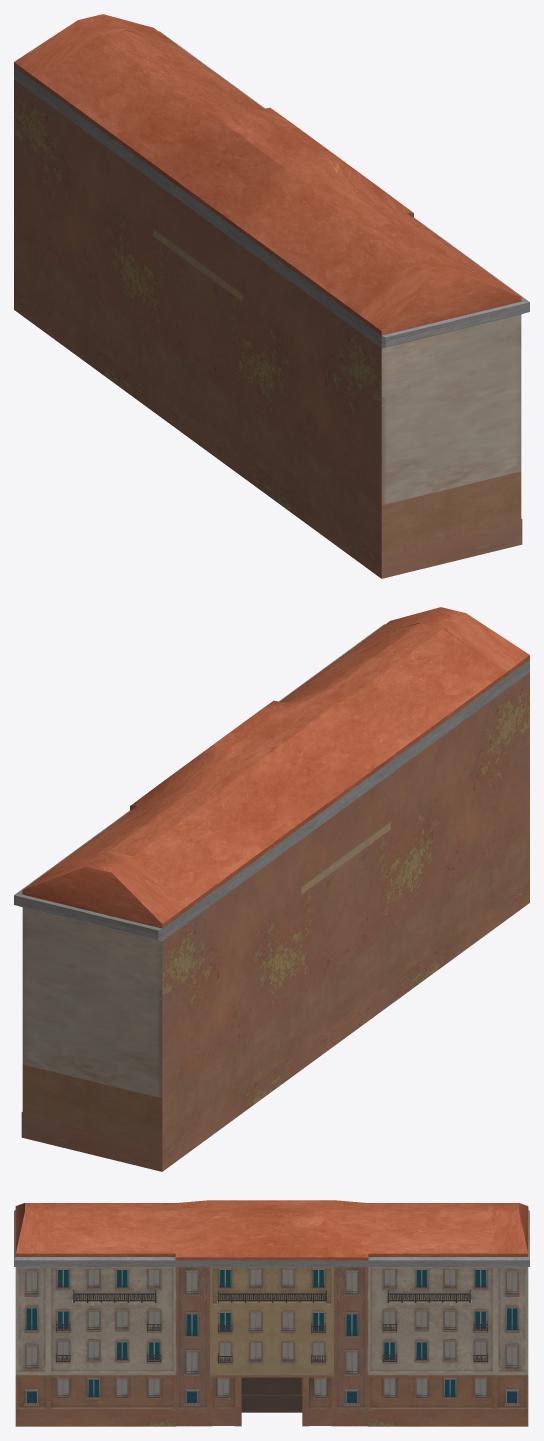
File: Bat_Cite_4.1.fbx
3 views of the same model, one above another, from view 1: azimuth 30°, elevation 25°; view 2: azimuth 150°, elevation 25°; view 3: azimuth 270°, elevation 25° (orthographic). The views are drawn at different scales.
Parts seen in each view (by area): view 1: Bat_Cite_4.1; view 2: Bat_Cite_4.1; view 3: Bat_Cite_4.1.
Boxes of the visible parts, <box> form: Bat_Cite_4.1: <box>14,14,529,578</box>; Bat_Cite_4.1: <box>14,607,529,1171</box>; Bat_Cite_4.1: <box>14,1200,529,1426</box>.
Size of the model in its own units: 871 by 1616 by 3798.
